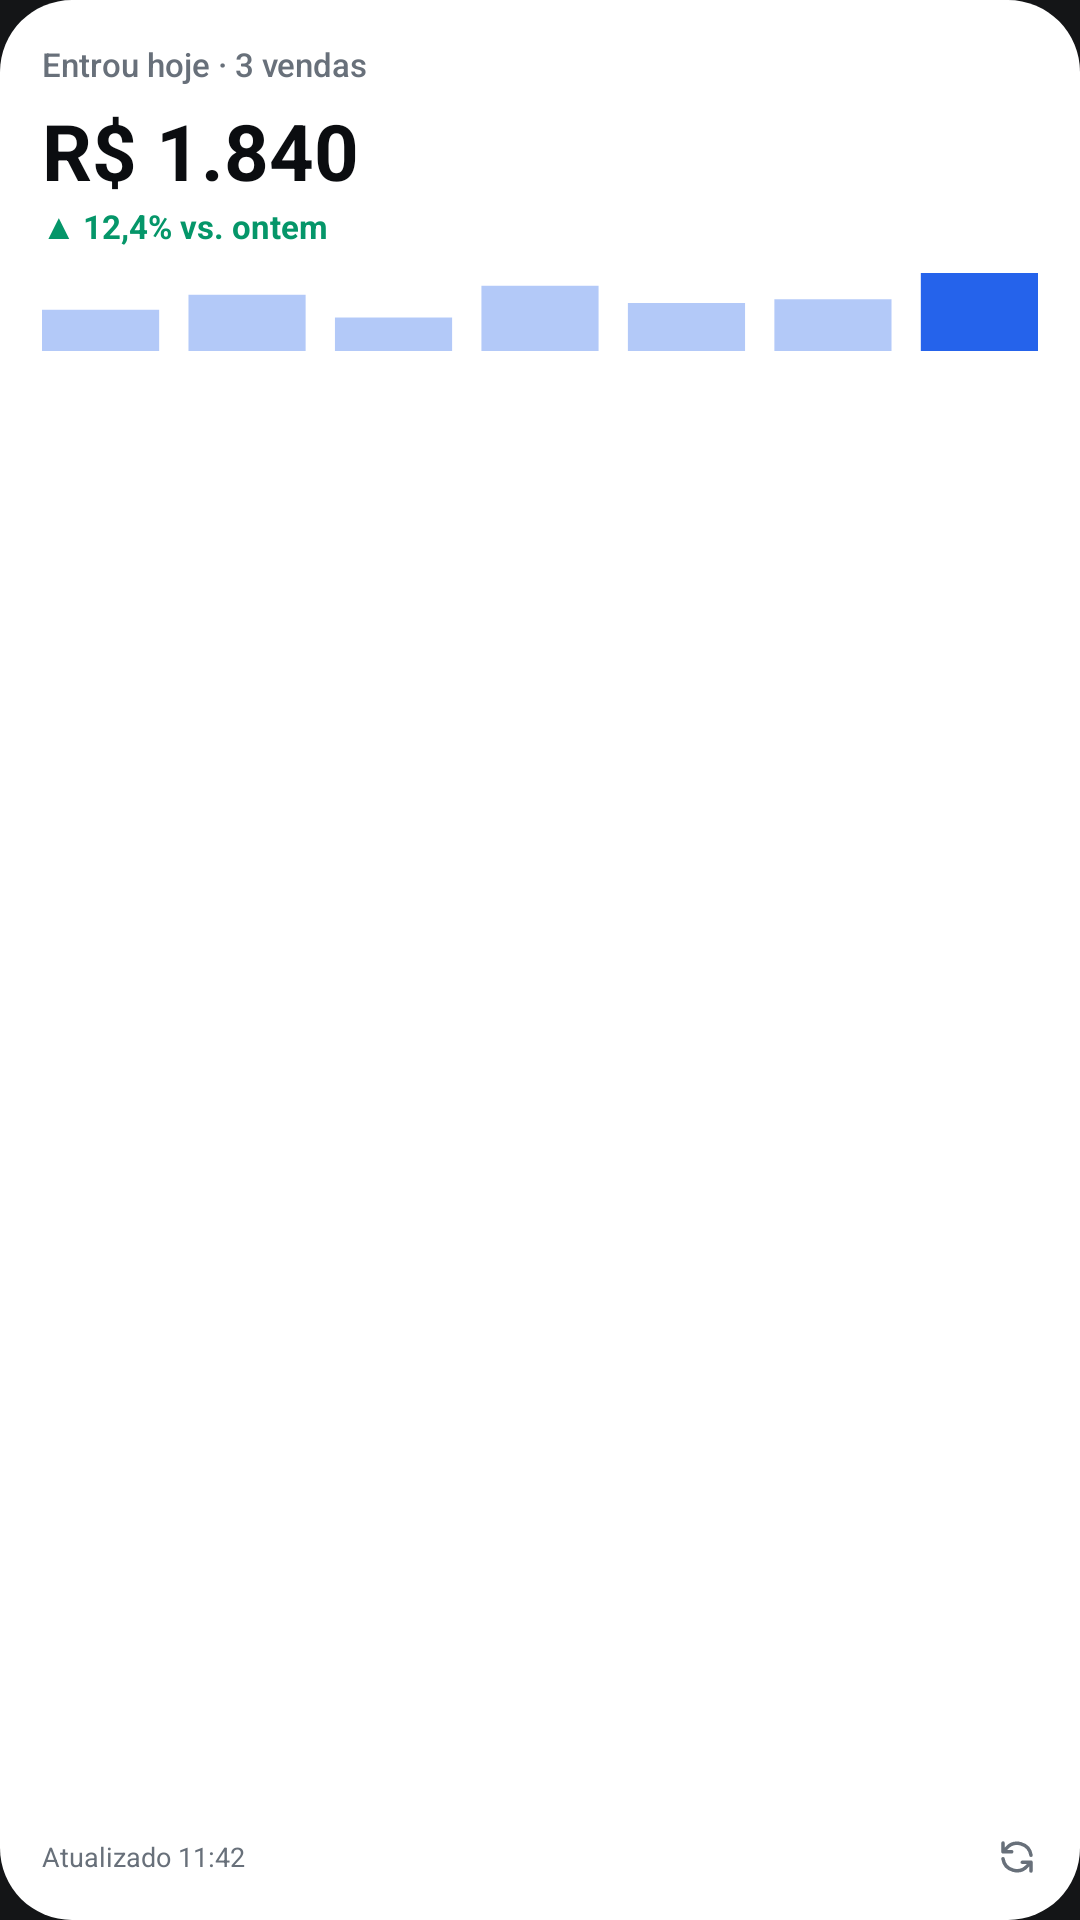

Point at icon controls on the screen. Image size 1080px×1920px, points as (x,y).
atualizar: (1017,1857)
